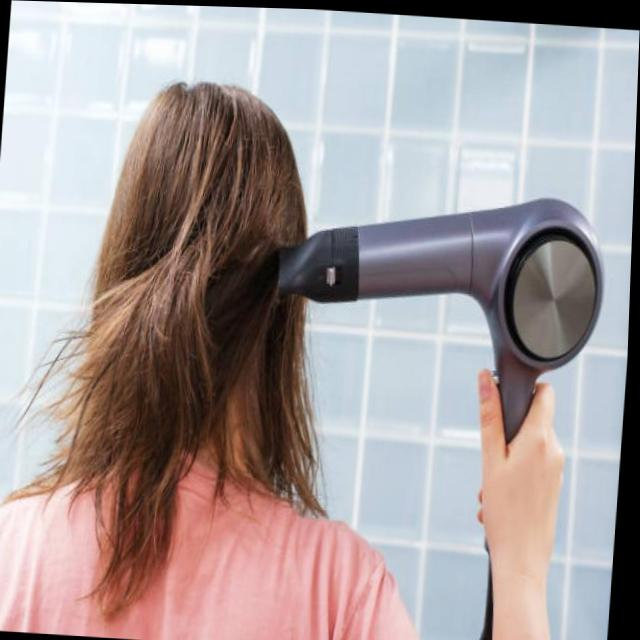no helmet: (80, 70, 315, 487)
